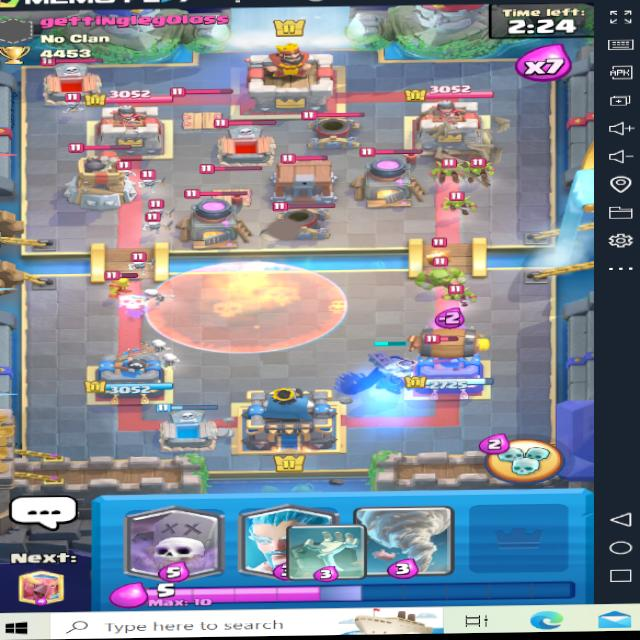bomb-tower: (64, 139, 134, 211)
brawler: (409, 252, 470, 290)
fire-spirit: (418, 242, 461, 271)
furnace: (178, 185, 255, 248), (353, 146, 429, 207)
goblin: (437, 189, 480, 216), (463, 154, 501, 184), (440, 277, 477, 307), (431, 155, 466, 185), (104, 270, 140, 295)
goblin-cage: (273, 151, 339, 200)
mortar: (263, 194, 340, 242), (295, 106, 365, 152)
skeleton: (138, 210, 177, 233), (122, 250, 162, 272), (208, 158, 240, 185), (147, 191, 179, 214), (135, 169, 165, 191), (59, 91, 88, 113)
tesla-closed: (165, 80, 233, 132), (200, 163, 264, 208)
tombstone: (33, 56, 102, 105), (213, 118, 277, 165)
